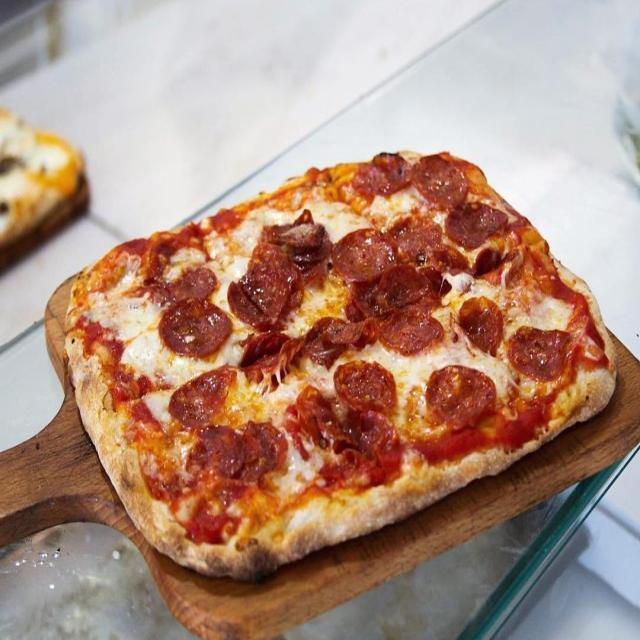pepperoni: (279, 389, 397, 480), (185, 419, 290, 482), (228, 253, 304, 330), (388, 213, 471, 281), (344, 264, 437, 322), (252, 208, 330, 272), (158, 295, 235, 356), (425, 364, 496, 430), (163, 369, 241, 426), (242, 325, 302, 392), (506, 320, 570, 382), (442, 198, 512, 254), (331, 225, 394, 281), (333, 360, 398, 414), (149, 256, 220, 304), (378, 308, 444, 359), (412, 155, 467, 212), (303, 326, 370, 368), (457, 296, 502, 358), (366, 155, 410, 197)
pizza: (66, 152, 615, 577)
